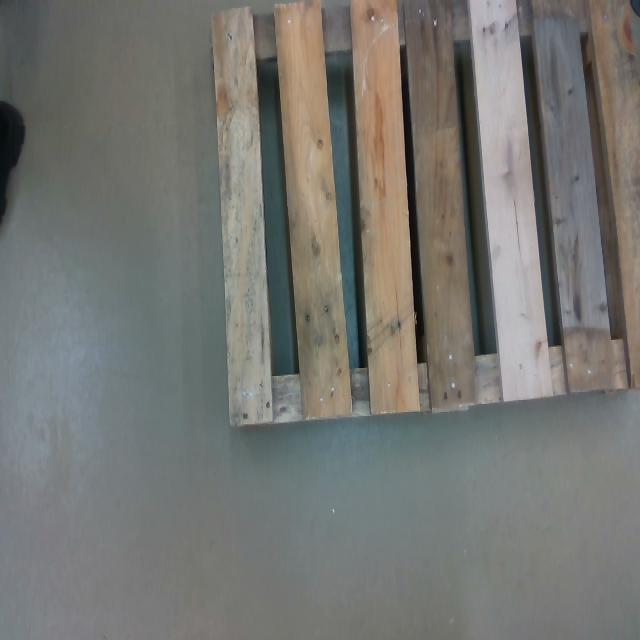pallet: (214, 0, 640, 430)
